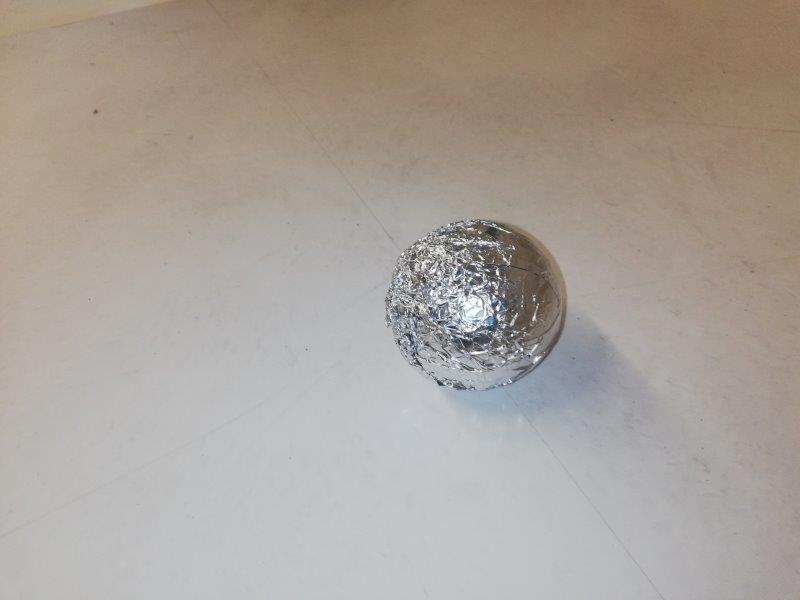bianca: (385, 216, 566, 393)
